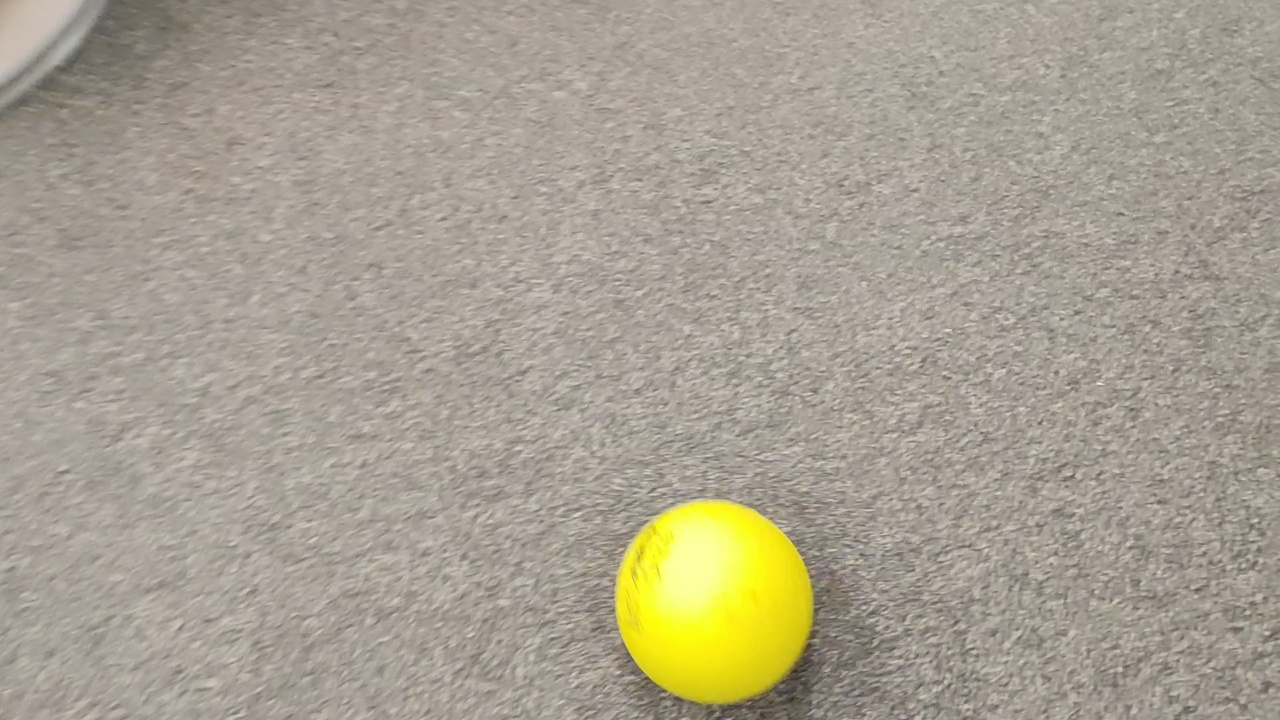Ball: (614, 498, 814, 705)
